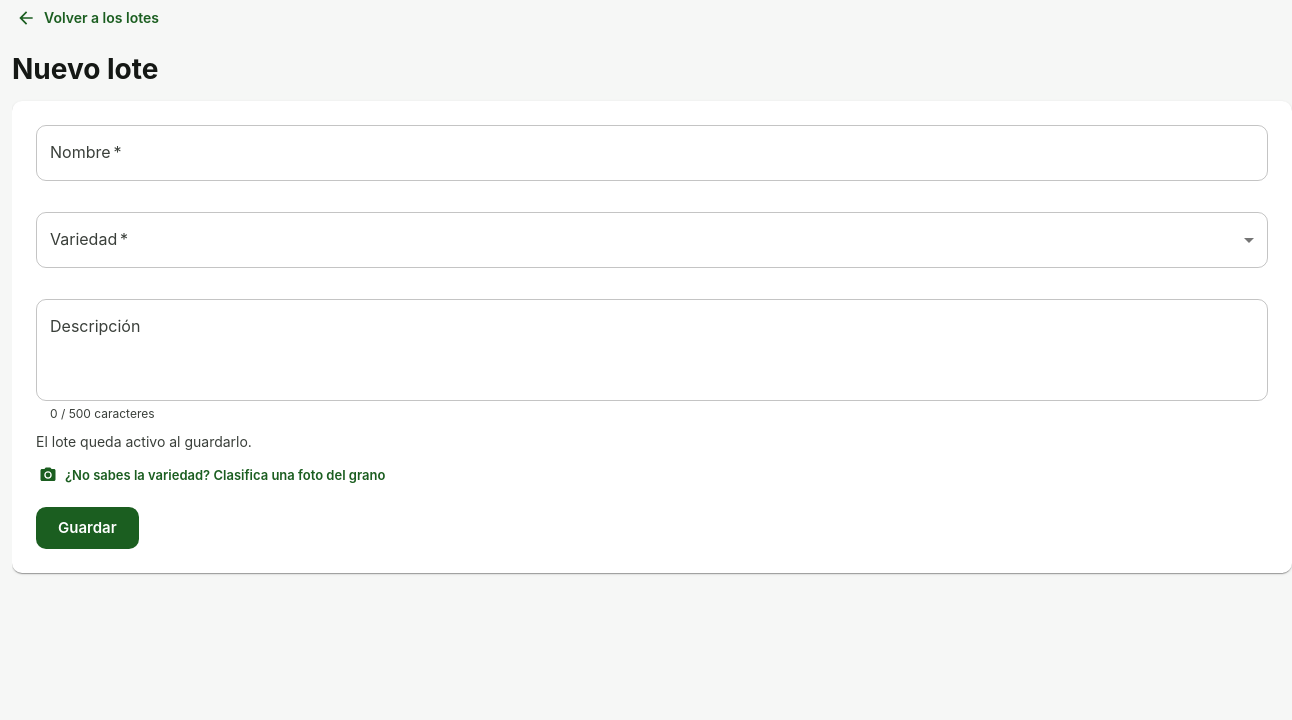
Test: PaginaFormularioProducto › CA-02.5 el error 409 de la API se muestra al usuario
The width and height of the screenshot is (1292, 720).
Type "Lote" into the field labelled "Nombre *".
click(652, 153); type("Lote")  # box x1=36 y1=125 x2=1268 y2=181
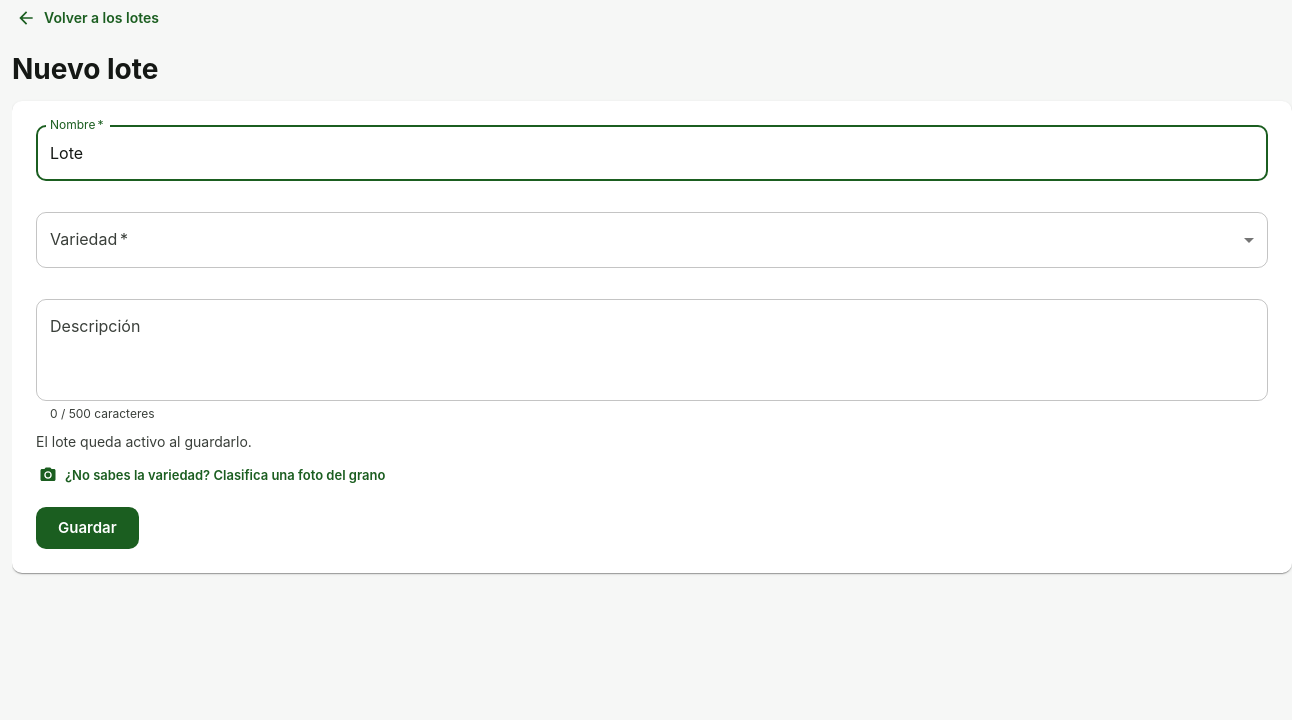
Click the dropdown named "Variedad".
click(652, 240)  # box x1=36 y1=212 x2=1268 y2=268
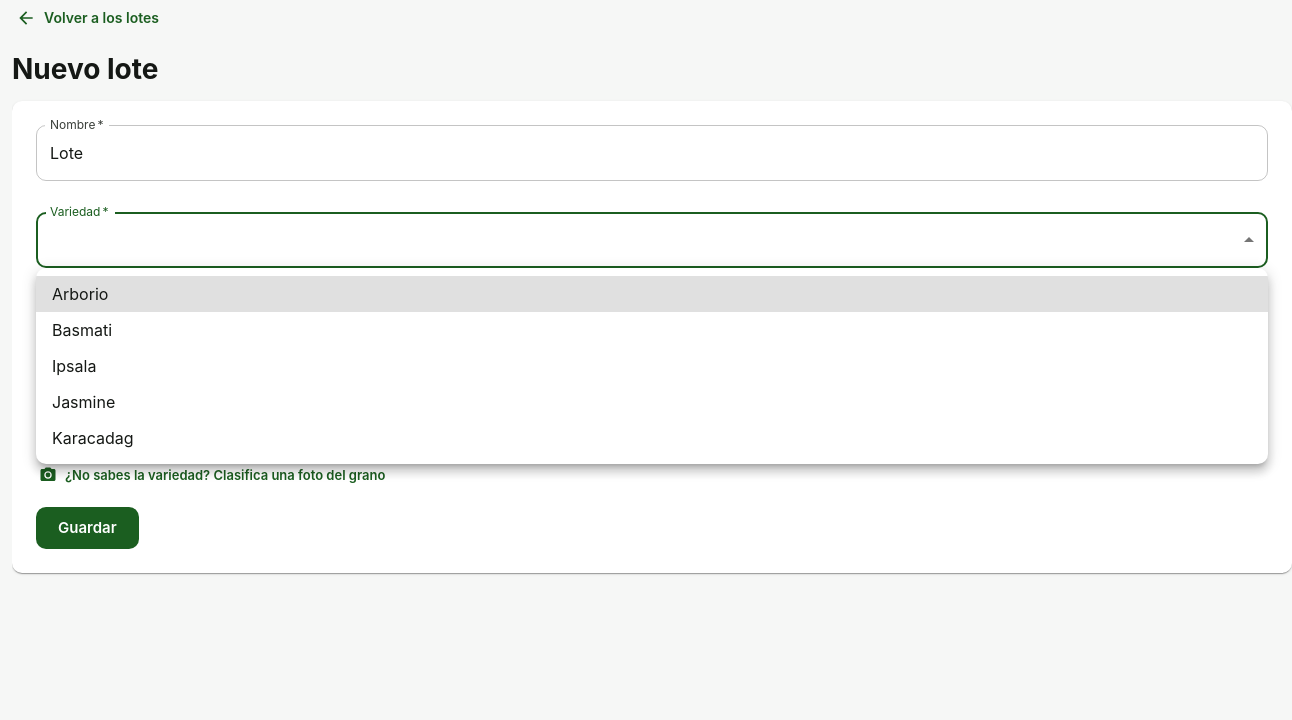
Click the option "Ipsala".
click(74, 366)  # box x1=52 y1=356 x2=96 y2=376
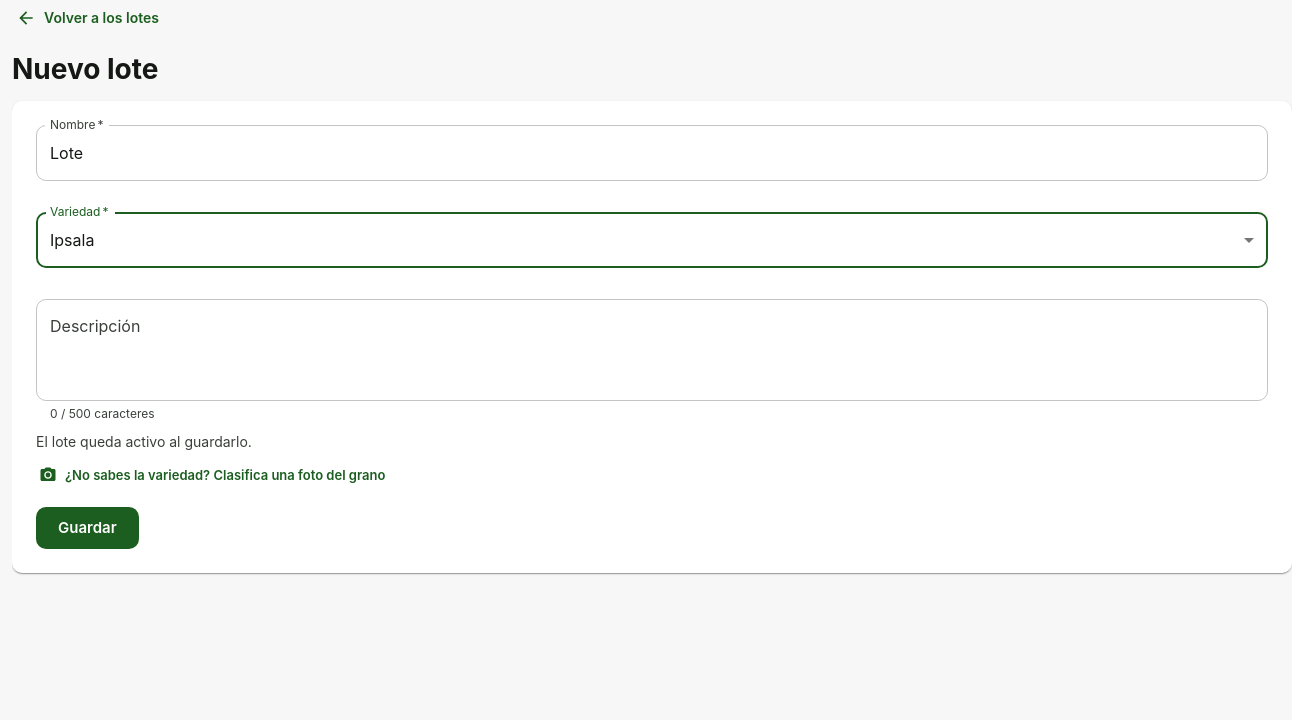
Click the button with test id "boton-guardar".
click(87, 528)  # box x1=36 y1=507 x2=139 y2=549
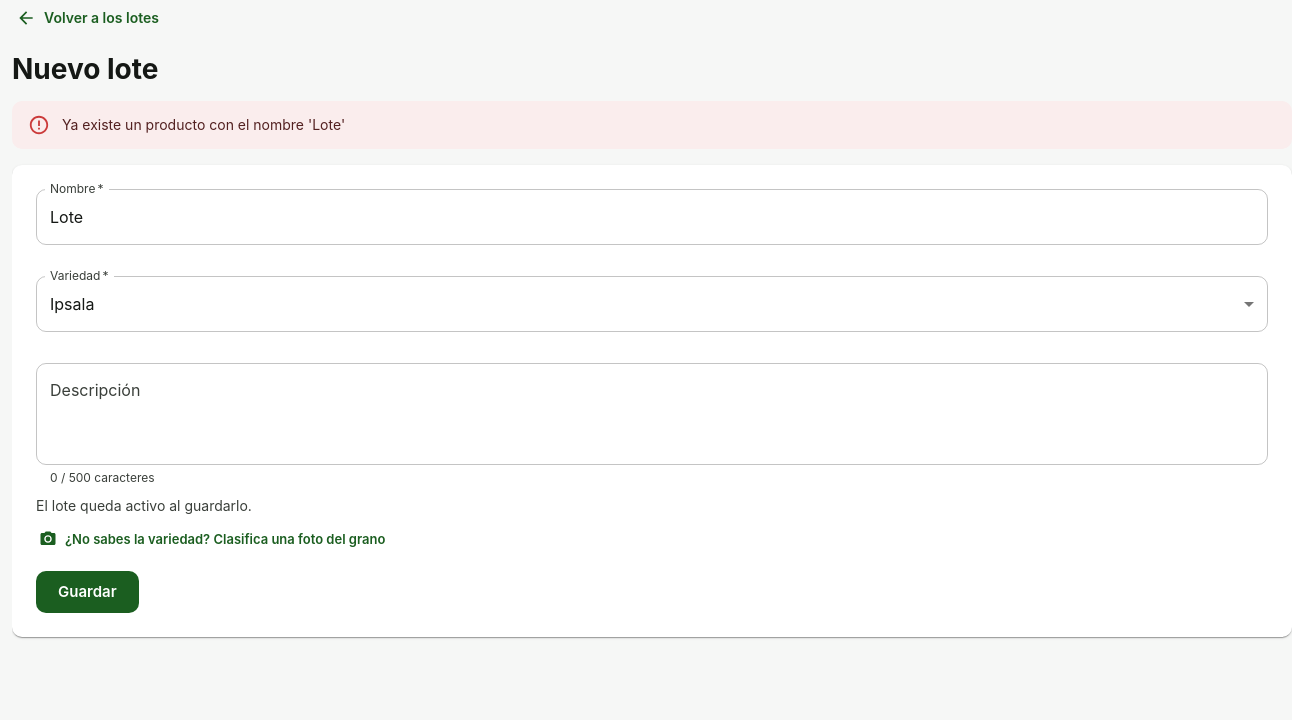
Expected: the message with test id "error-formulario" shows "Ya existe un producto", x1=62 y1=116 x2=345 y2=133
